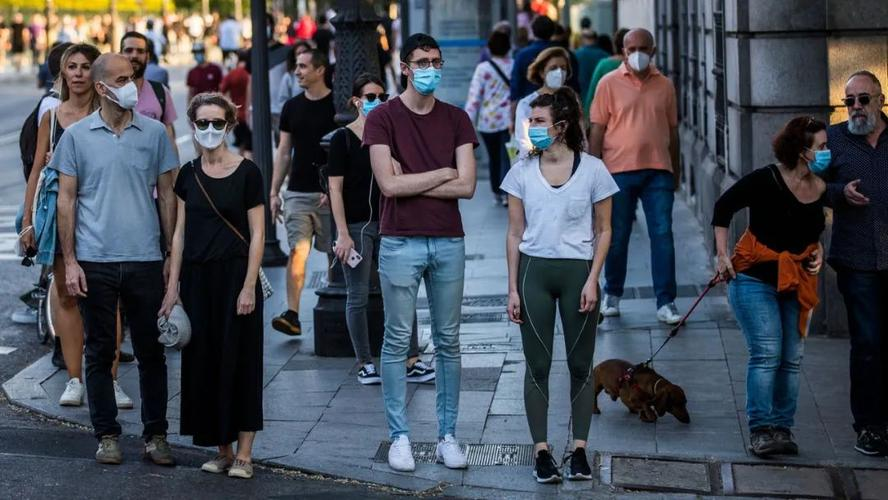mask: (104, 61, 144, 112), (799, 122, 836, 173), (409, 41, 444, 93), (525, 103, 561, 152), (194, 102, 231, 149), (626, 31, 652, 71), (545, 55, 567, 88)
no_mask: (844, 73, 881, 134), (61, 48, 95, 95)
